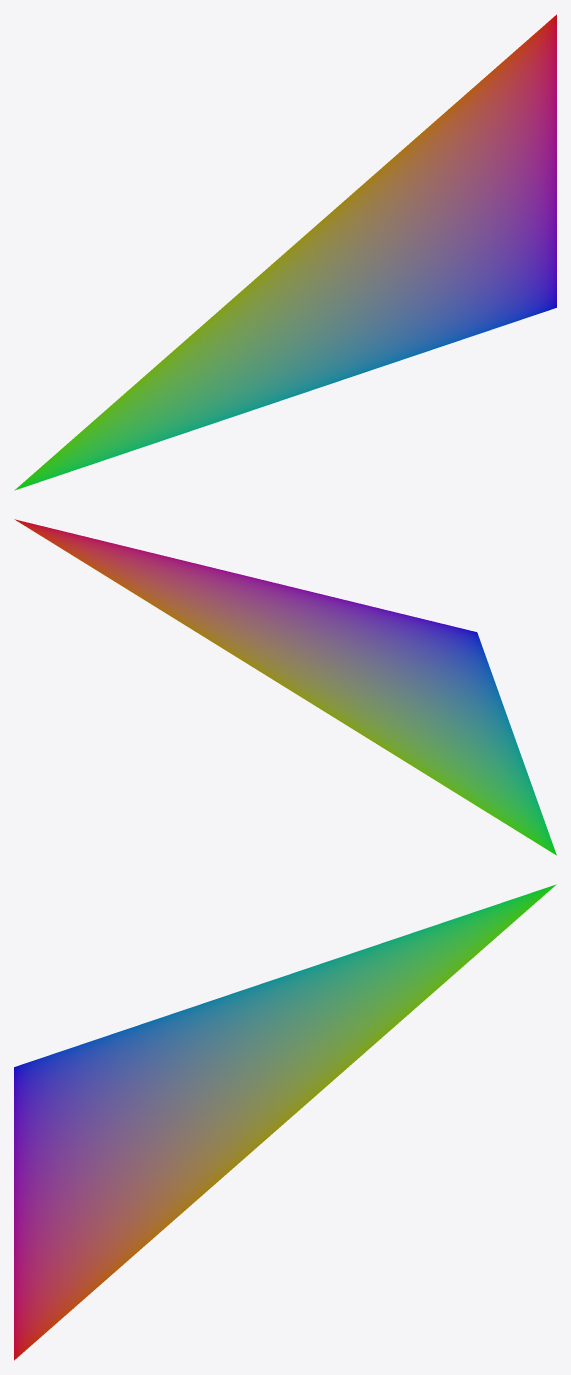
Rendered from face_cleaning_conquest_83.obj.
3 views of the same model, one above another, from view 1: azimuth 90°, elevation 25°; view 2: azimuth 150°, elevation 25°; view 3: azimuth 270°, elevation 25° (orthographic). The views are drawn at different scales.
Bounding box in the file's own units: 1.34 × 0 × 0.6452.
